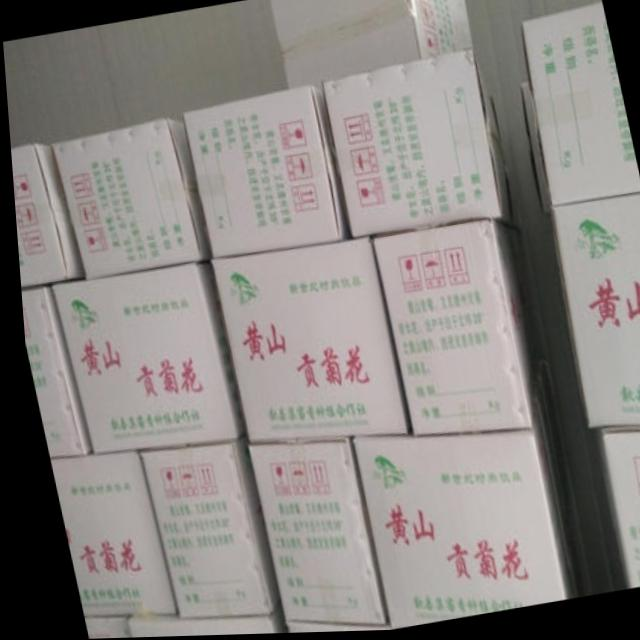box: (346, 377, 575, 632), (208, 238, 406, 447), (46, 263, 240, 454), (368, 222, 536, 437), (320, 53, 509, 241), (180, 87, 348, 259), (48, 118, 208, 280), (242, 440, 379, 628), (131, 436, 270, 621), (522, 6, 640, 210), (546, 196, 640, 433), (43, 451, 168, 618), (270, 0, 473, 91), (17, 286, 86, 459), (9, 144, 82, 288), (590, 431, 640, 592), (116, 605, 278, 638), (277, 623, 382, 634), (75, 618, 121, 639)
